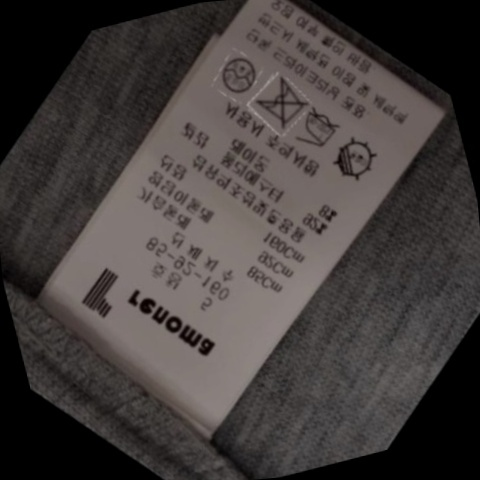DN_wash: (248, 76, 311, 132)
dry_clean_petrol_only: (212, 49, 262, 98)
iron_low: (291, 105, 346, 155)
line_dry_in_shade: (322, 134, 382, 187)
